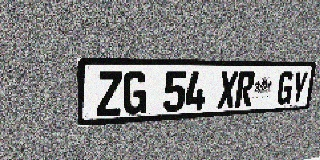4: (185, 71, 207, 111)
5: (163, 71, 187, 112)
G: (123, 71, 148, 115), (276, 71, 295, 105)
R: (235, 71, 256, 108)
X: (217, 71, 238, 109)
Y: (290, 71, 309, 104)
Z: (97, 71, 123, 117)
